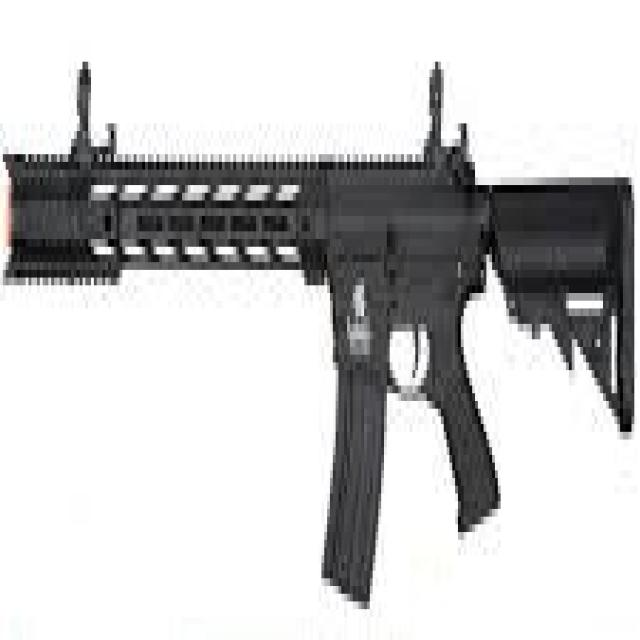rifle: (1, 33, 640, 616)
